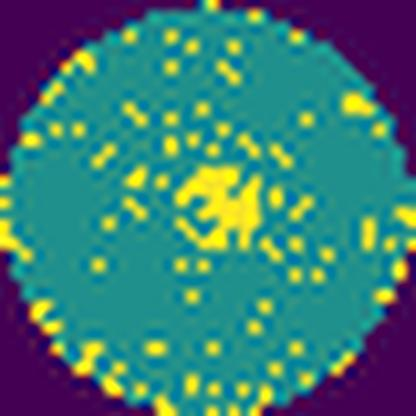Center: (171, 161, 267, 256)
